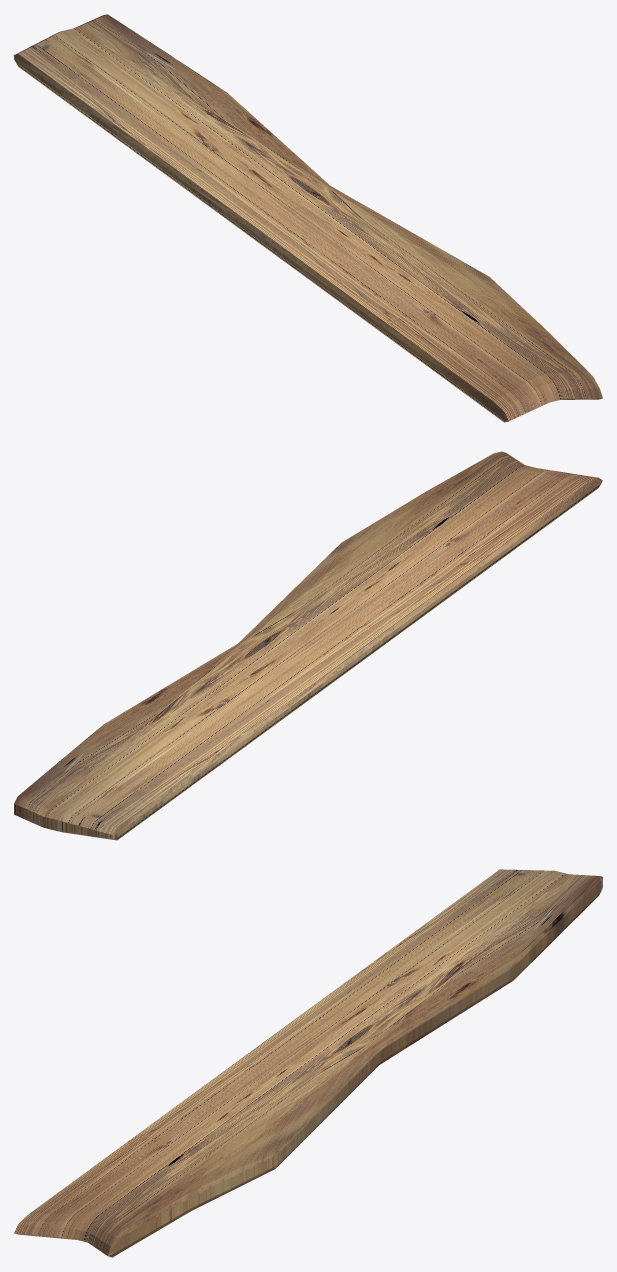
The model's file is plank7.fbx.
3 views of the same model, one above another, from view 1: azimuth 30°, elevation 25°; view 2: azimuth 150°, elevation 25°; view 3: azimuth 330°, elevation 25° (orthographic).
Parts seen in each view (by area): view 1: Plane.026; view 2: Plane.026; view 3: Plane.026.
Boxes of the visible parts, x1,y1,x2,y2 form: Plane.026: (14,14,602,422); Plane.026: (14,451,602,840); Plane.026: (14,869,602,1257).
Bounding box in the file's own units: 75.14 × 17.06 × 521.
